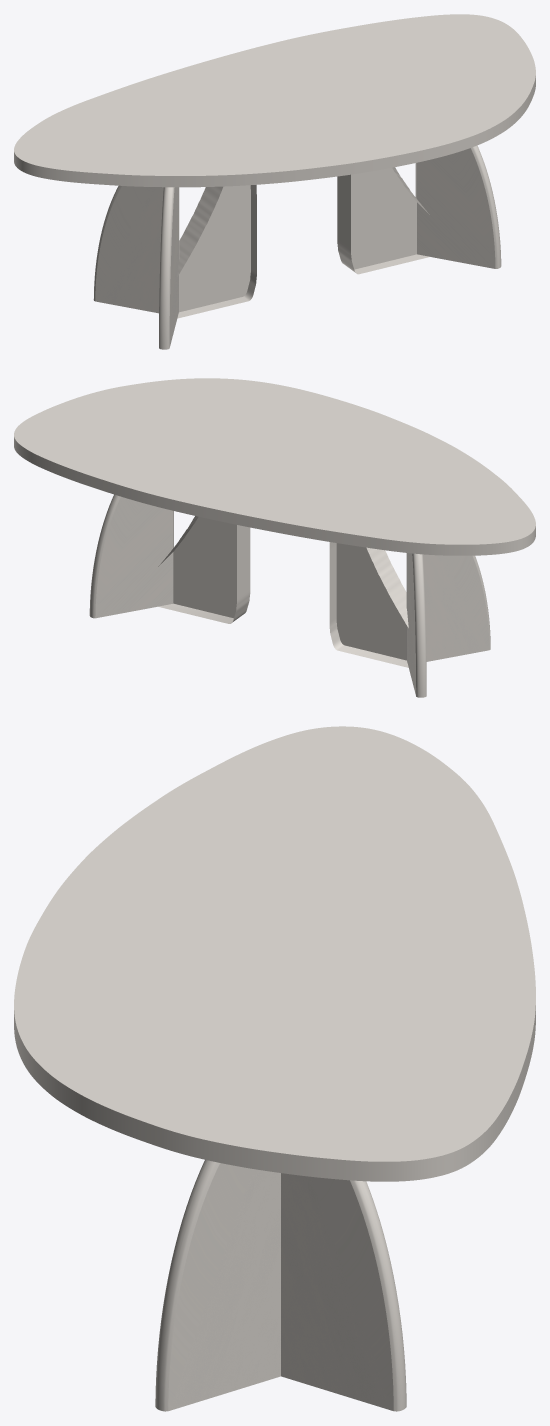
The model's file is pearlwhite_pebbletop_standard_plane.glb.
3 views of the same model, one above another, from view 1: azimuth 30°, elevation 25°; view 2: azimuth 150°, elevation 25°; view 3: azimuth 270°, elevation 25° (orthographic). The views are drawn at different scales.
Visible parts, largest first — view 1: standard_pebbletop, plane_single1, plane_singleright2, plane_single2, plane_singleleft1, plane_singleright1; view 2: standard_pebbletop, plane_singleleft2, plane_single1, plane_single2, plane_singleright1, plane_singleleft1; view 3: standard_pebbletop, plane_singleright2, plane_singleleft2.
Part boxes in pixels (left/top/right/bottom): standard_pebbletop: left=14, top=14, right=535, bottom=187; plane_single1: left=177, top=185, right=256, bottom=318; plane_singleright2: left=415, top=145, right=501, bottom=268; plane_single2: left=337, top=167, right=429, bottom=274; plane_singleleft1: left=93, top=185, right=179, bottom=313; plane_singleright1: left=159, top=187, right=178, bottom=349; standard_pebbletop: left=14, top=378, right=535, bottom=555; plane_singleleft2: left=89, top=494, right=173, bottom=618; plane_single1: left=329, top=542, right=408, bottom=667; plane_single2: left=158, top=516, right=250, bottom=623; plane_singleright1: left=406, top=553, right=490, bottom=661; plane_singleleft1: left=407, top=553, right=426, bottom=697; standard_pebbletop: left=14, top=726, right=535, bottom=1181; plane_singleright2: left=155, top=1160, right=280, bottom=1411; plane_singleleft2: left=281, top=1173, right=406, bottom=1411.
Bounding box in the file's own units: 7.5 × 2.5 × 3.8.
Materials: 1 (1 with a texture image).
